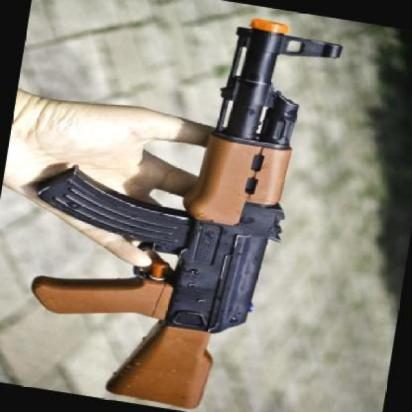Gun: (33, 16, 344, 408)
